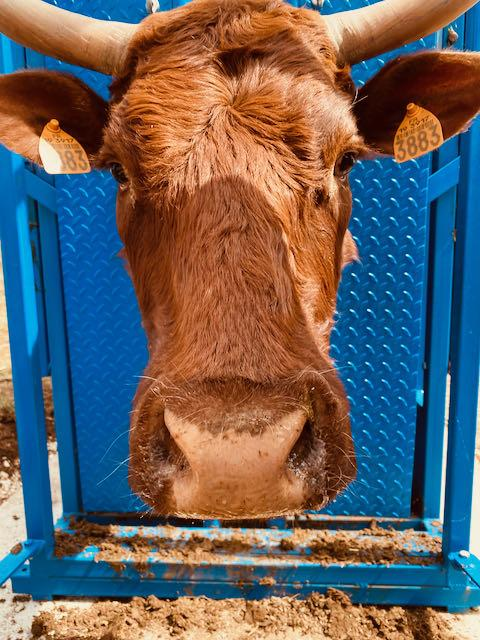muzzles: (117, 389, 352, 527)
